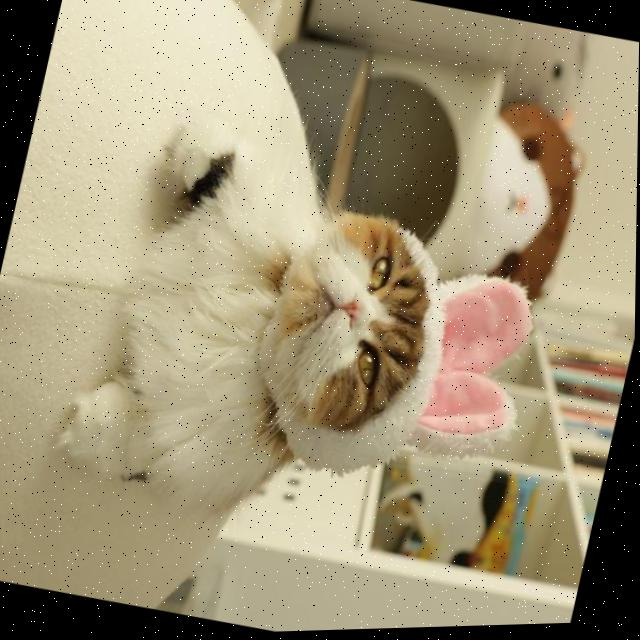Cats: (56, 128, 464, 551)
